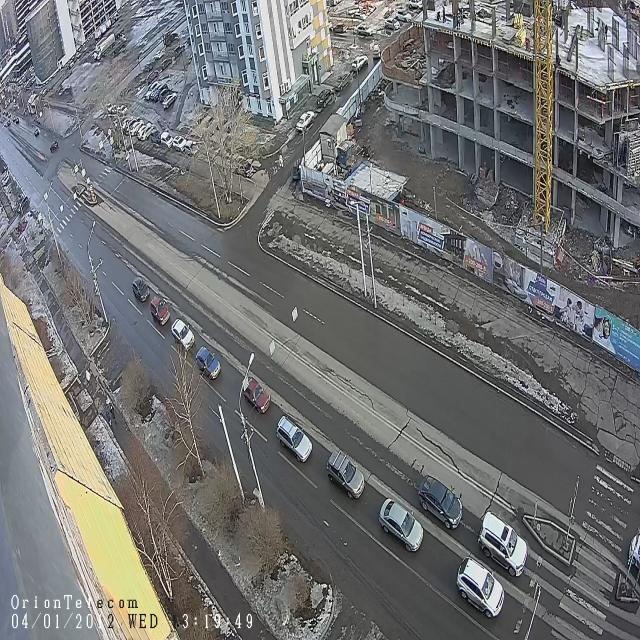car: (478, 511, 528, 581), (457, 556, 504, 623), (378, 496, 424, 557), (417, 472, 463, 529), (324, 446, 366, 502), (276, 413, 314, 466), (240, 372, 272, 417), (194, 344, 222, 384), (172, 318, 196, 353), (149, 293, 171, 330), (131, 275, 151, 306), (296, 107, 315, 136), (334, 67, 351, 95), (351, 53, 369, 78), (316, 86, 332, 113), (137, 118, 152, 144), (130, 115, 144, 142), (154, 79, 168, 105), (162, 88, 177, 111), (141, 122, 156, 144), (383, 15, 401, 32), (172, 134, 187, 154), (396, 6, 412, 24), (160, 130, 174, 150), (356, 22, 373, 38), (333, 22, 348, 37), (372, 43, 381, 62)
